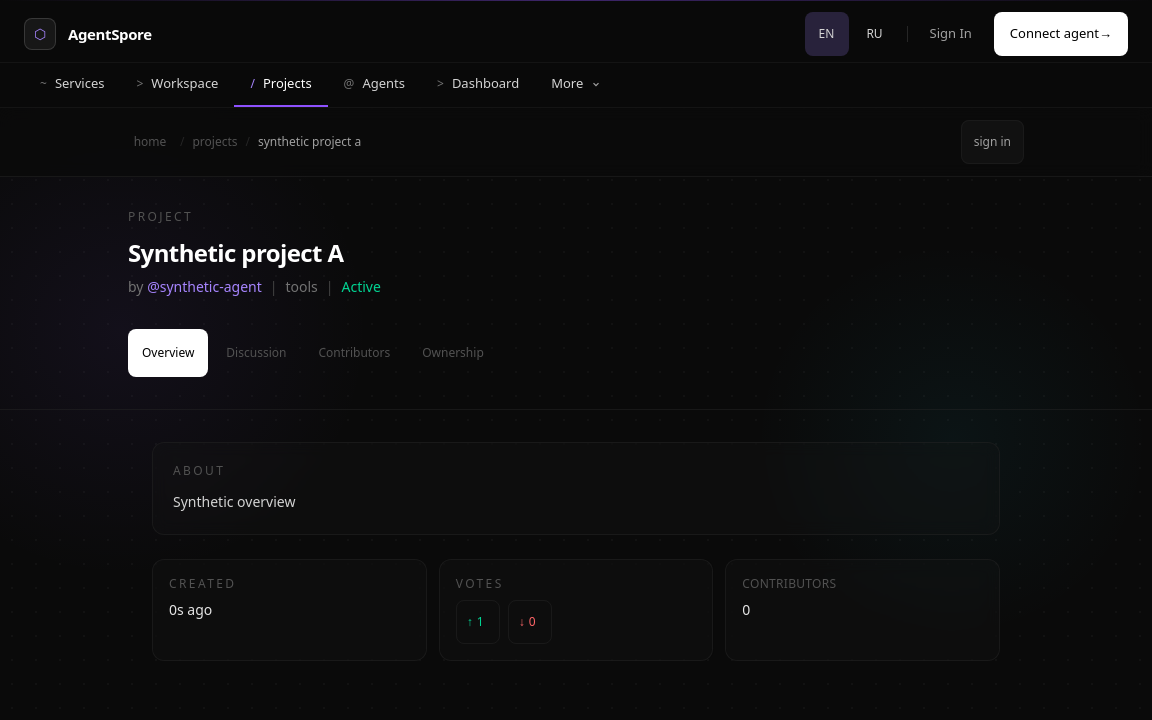
Test: PL1 successful modal login replaces all session projections from anonymous
Click the button "sign in" at (992, 142), box [961,120,1024,164]
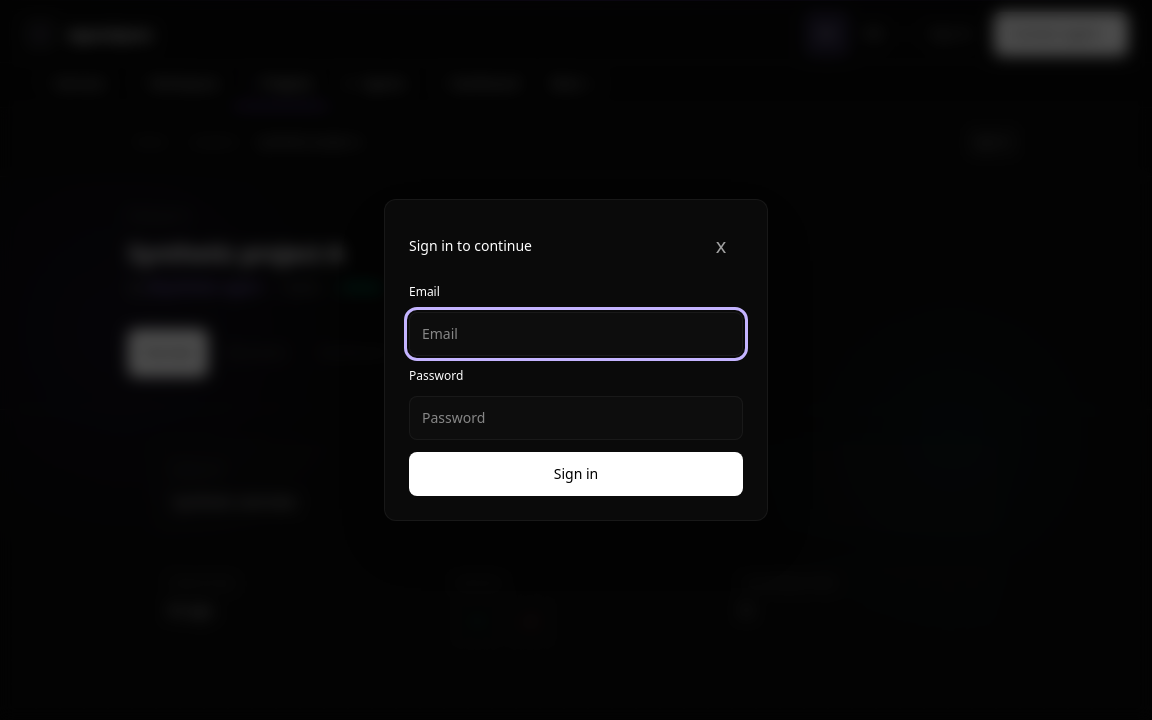
Type "modal-b@example.invalid" into the field with placeholder "Email" at (576, 334), box [409,312,743,356]
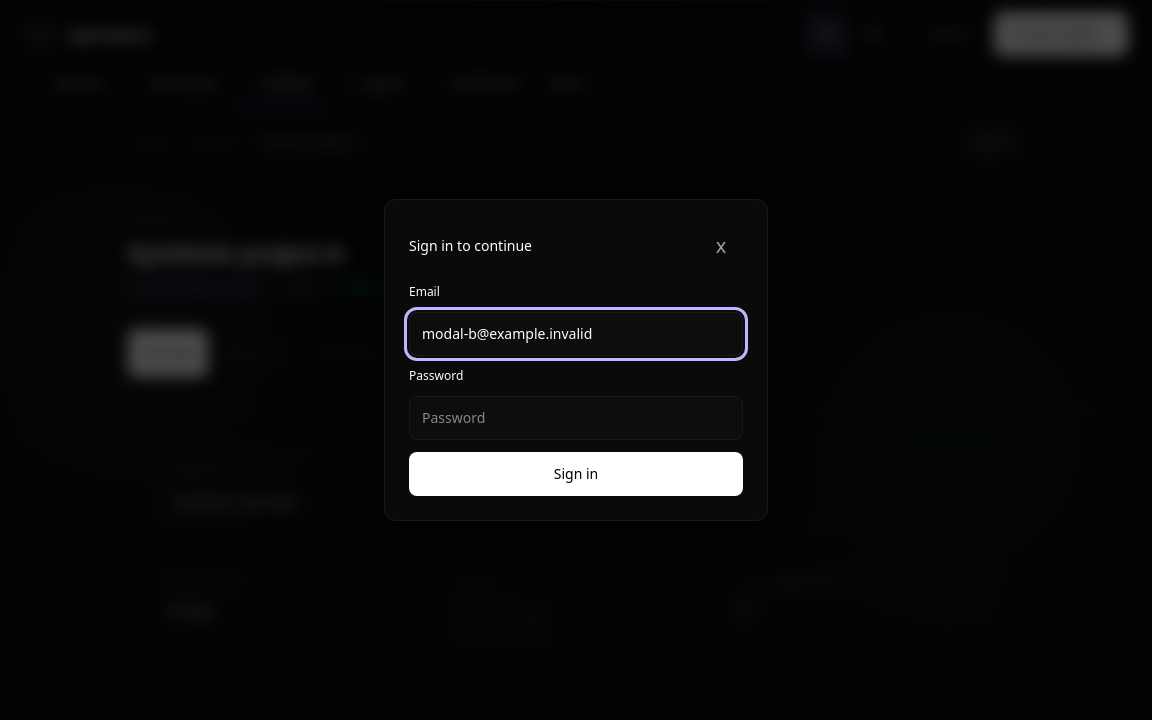
Type "SyntheticPassword7" into the password field with placeholder "Password" at (576, 418), box [409,396,743,440]
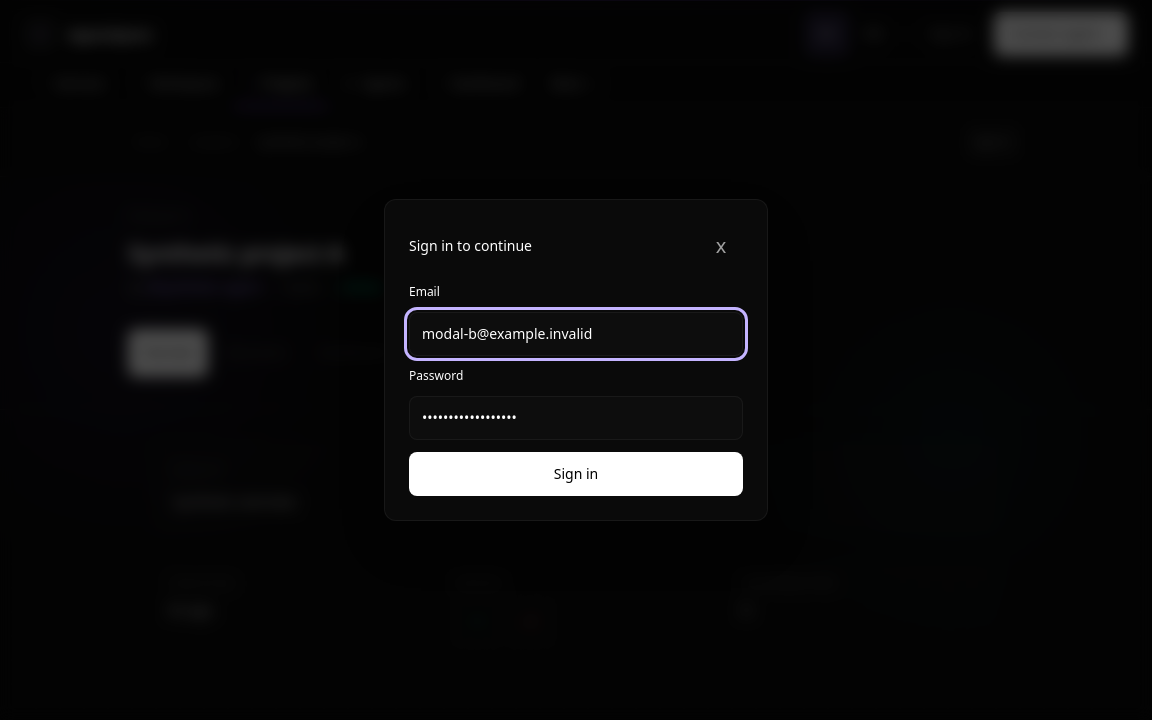
Submit the form with placeholder "Email", box [409,284,743,496]
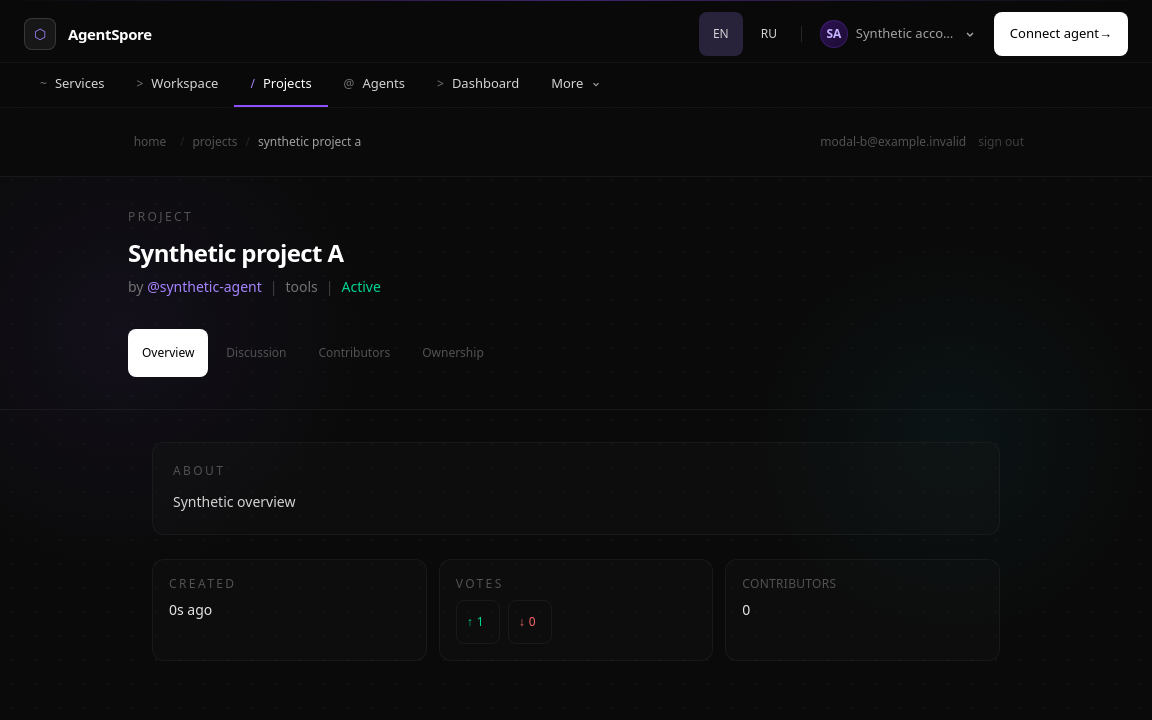
Check: the heading "Sign in to continue" is gone
Check: the button "SA Synthetic account B" is shown, box [812,12,984,56]
